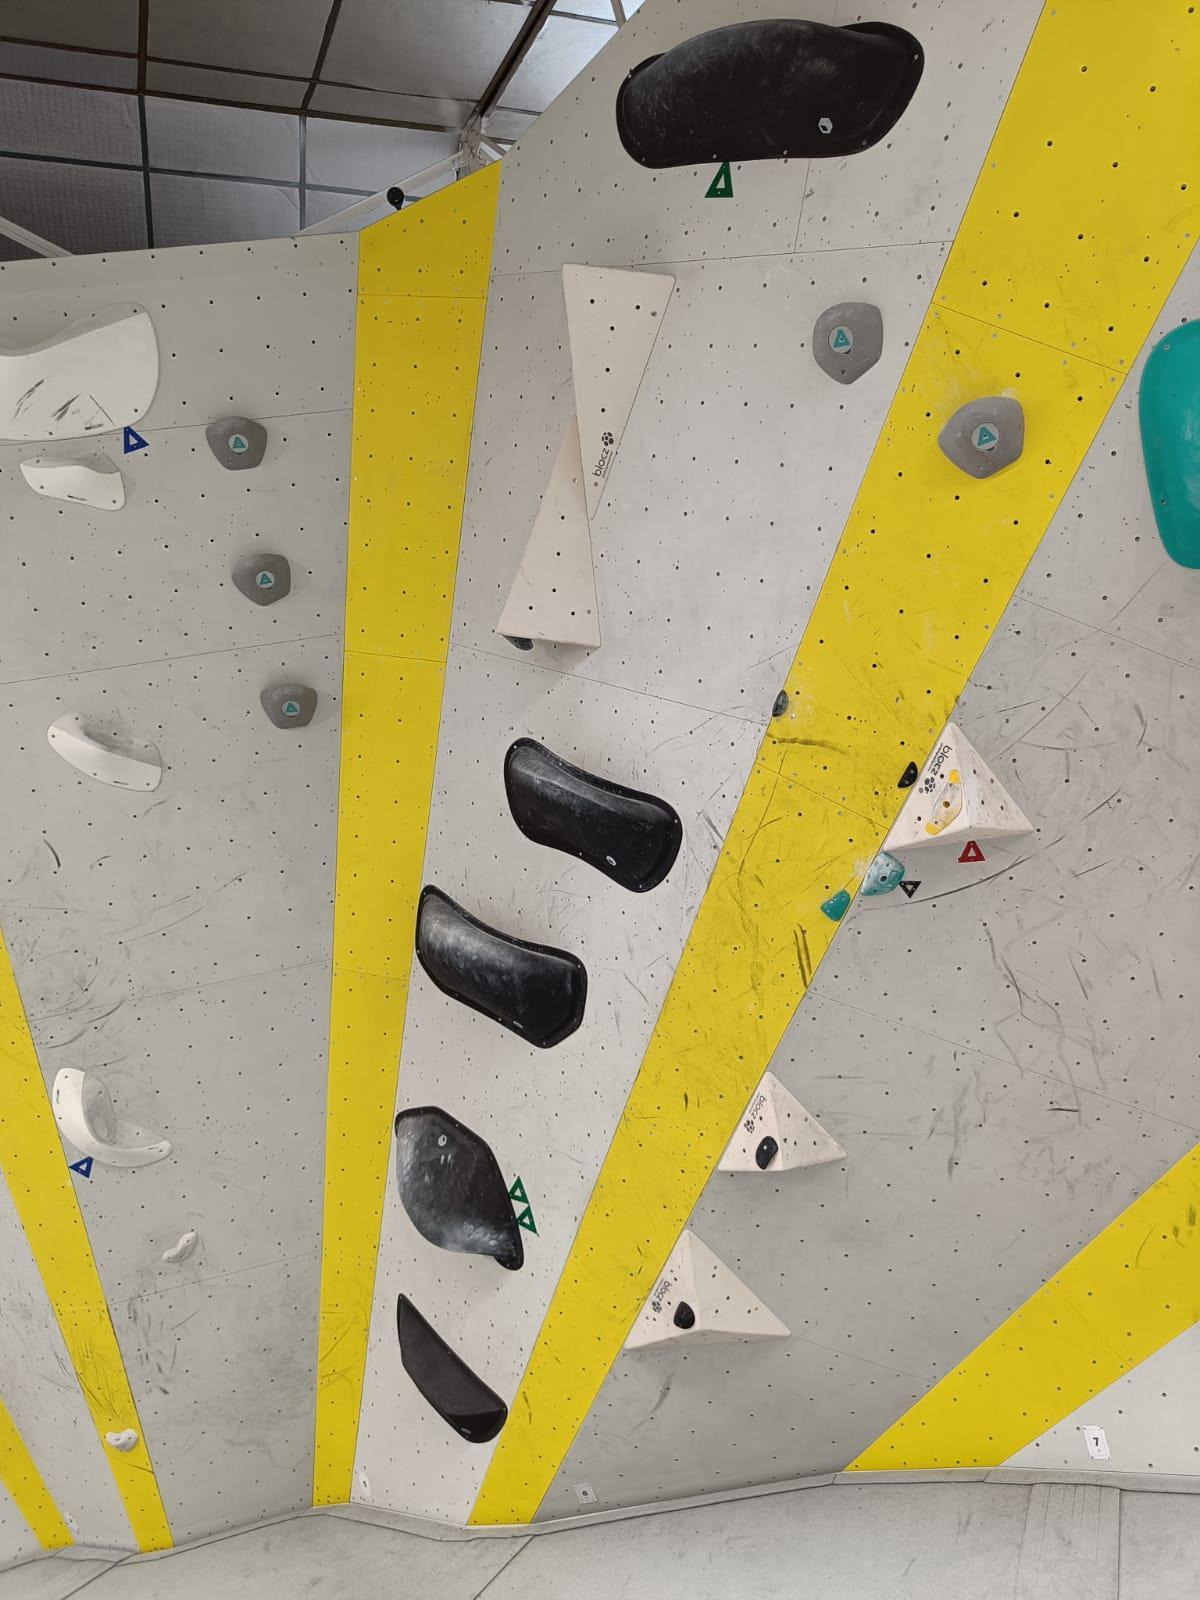hold: (615, 19, 924, 168), (415, 884, 587, 1048), (504, 737, 682, 892), (0, 302, 159, 441), (395, 1106, 523, 1270), (397, 1293, 508, 1443), (1138, 319, 1200, 569), (52, 1067, 173, 1168), (47, 713, 161, 791), (938, 397, 1024, 479), (19, 450, 125, 511), (812, 302, 882, 384), (205, 416, 267, 470), (232, 553, 290, 605), (260, 683, 316, 728), (925, 769, 962, 835), (860, 852, 905, 896), (160, 1231, 198, 1262), (821, 889, 851, 921), (755, 1136, 778, 1170), (106, 1430, 137, 1450), (673, 1301, 696, 1329), (897, 761, 918, 787), (771, 689, 789, 717), (502, 635, 533, 650)
volume: (562, 263, 677, 520), (495, 414, 601, 648), (624, 1228, 793, 1352), (882, 722, 1034, 852), (717, 1071, 848, 1172)
